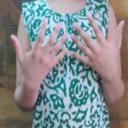hand: (69, 3, 125, 106), (10, 17, 68, 111)
